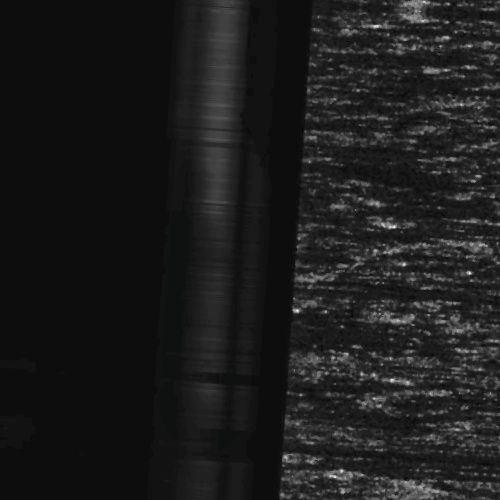shadow: (340, 444, 500, 461), (367, 436, 500, 447), (417, 11, 500, 26), (400, 188, 500, 199), (401, 453, 500, 462)
